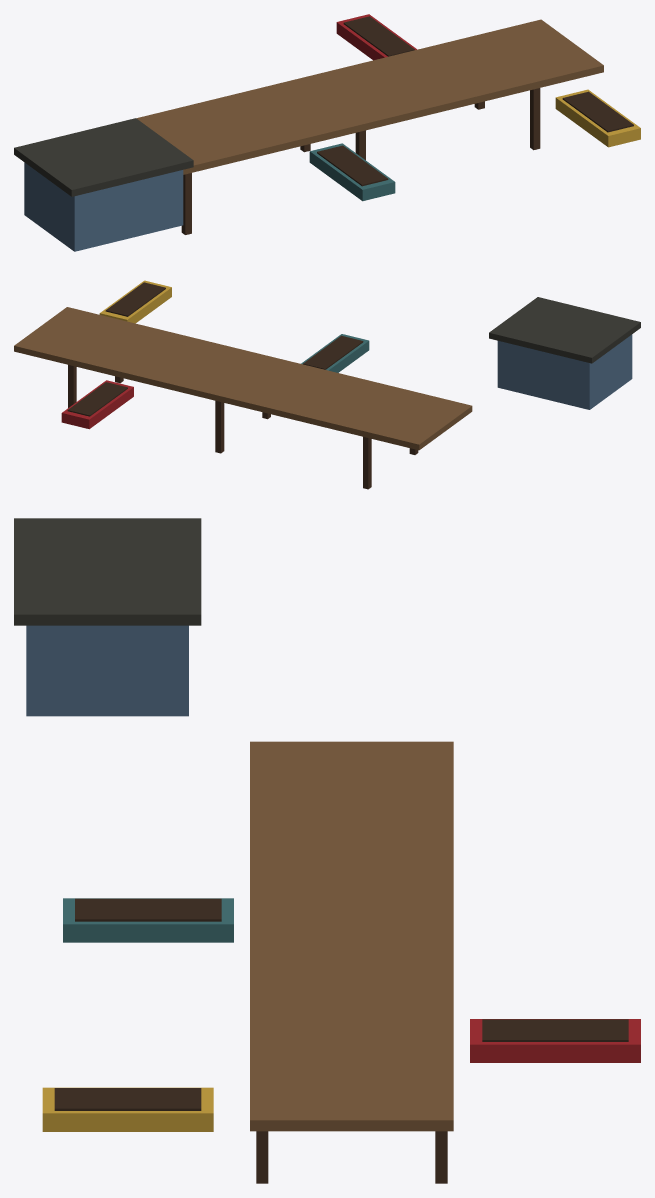
File: theme-river-2.glb
The picture shows the model from 3 angles, top to bottom: view 1: azimuth 30°, elevation 25°; view 2: azimuth 150°, elevation 25°; view 3: azimuth 270°, elevation 25°; orthographic projection. The views are drawn at different scales.
Parts seen in each view (by area): view 1: 00_#7a5a3a, 06_#55708a, 07_#3a3a34, 03_#3a2a1e_noshadow, 01_#4a3424, 02_#3f6f73, 05_#c9a13a, 04_#a3262c; view 2: 00_#7a5a3a, 06_#55708a, 07_#3a3a34, 03_#3a2a1e_noshadow, 01_#4a3424, 04_#a3262c, 05_#c9a13a, 02_#3f6f73; view 3: 00_#7a5a3a, 07_#3a3a34, 06_#55708a, 03_#3a2a1e_noshadow, 02_#3f6f73, 05_#c9a13a, 04_#a3262c, 01_#4a3424.
Boxes of the visible parts, x1,y1,x2,y2 form: 00_#7a5a3a: (136, 19, 603, 174); 06_#55708a: (24, 162, 183, 251); 07_#3a3a34: (14, 118, 193, 196); 03_#3a2a1e_noshadow: (317, 16, 633, 186); 01_#4a3424: (181, 88, 540, 234); 02_#3f6f73: (309, 143, 395, 201); 05_#c9a13a: (555, 89, 640, 147); 04_#a3262c: (336, 14, 416, 60); 00_#7a5a3a: (14, 307, 472, 450); 06_#55708a: (497, 334, 632, 409); 07_#3a3a34: (489, 297, 640, 363); 03_#3a2a1e_noshadow: (67, 282, 363, 416); 01_#4a3424: (68, 365, 418, 489); 04_#a3262c: (61, 380, 133, 429); 05_#c9a13a: (99, 280, 171, 323); 02_#3f6f73: (301, 334, 369, 372); 00_#7a5a3a: (250, 741, 453, 1131); 07_#3a3a34: (14, 518, 201, 625); 06_#55708a: (26, 625, 188, 716); 03_#3a2a1e_noshadow: (54, 898, 628, 1110); 02_#3f6f73: (63, 898, 233, 942); 05_#c9a13a: (42, 1087, 213, 1131); 04_#a3262c: (470, 1019, 640, 1062); 01_#4a3424: (256, 1131, 447, 1183).
Bounding box in the file's own units: 27.8 × 6.4 × 15.4.
